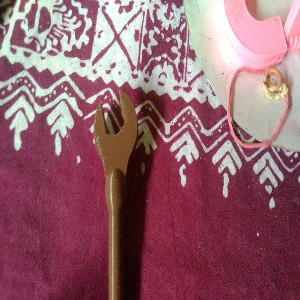spanner: (92, 90, 138, 300)
